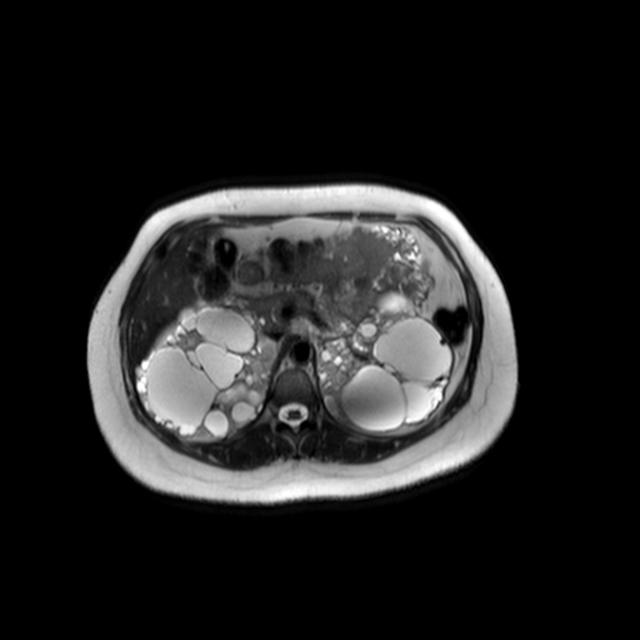sag: (134, 301, 278, 446)
sol: (316, 291, 455, 433)
